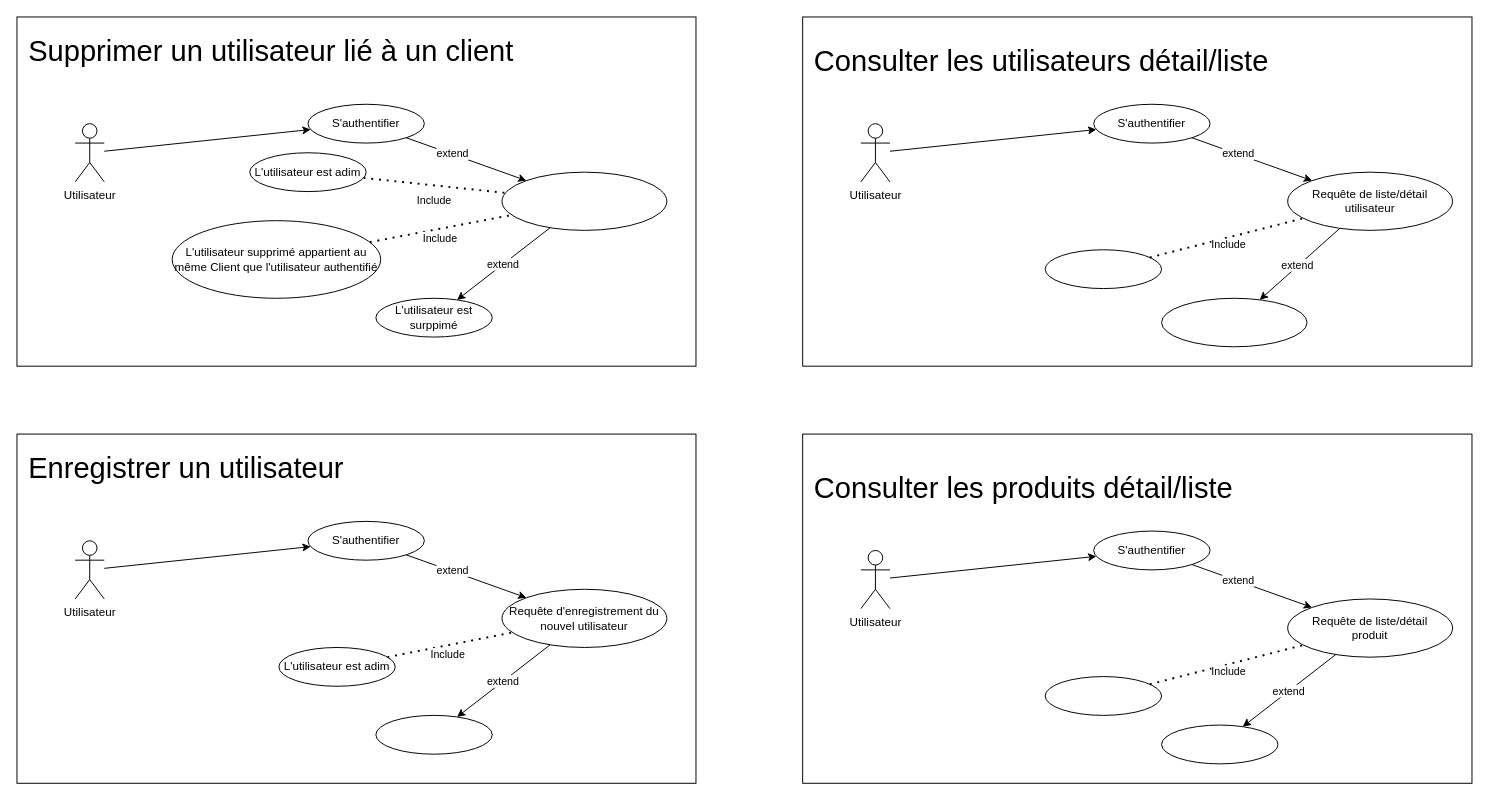
Some shapes in this 1508 by 800 pixel diagram are drawn without their labels. The centre of each missing label's shape, as x and y in pixels:
L'utilisateur est enregistré: the point at 433,734
L'utilisateur est produit: the point at 1103,695
L'utilisateur est utilisateur: the point at 1103,269
Requête de suppression d'utilisateur: the point at 584,200
Retourne le liste/le détail produit: the point at 1219,744
Retourne le liste/le détail utilisateur lié au client: the point at 1234,322
